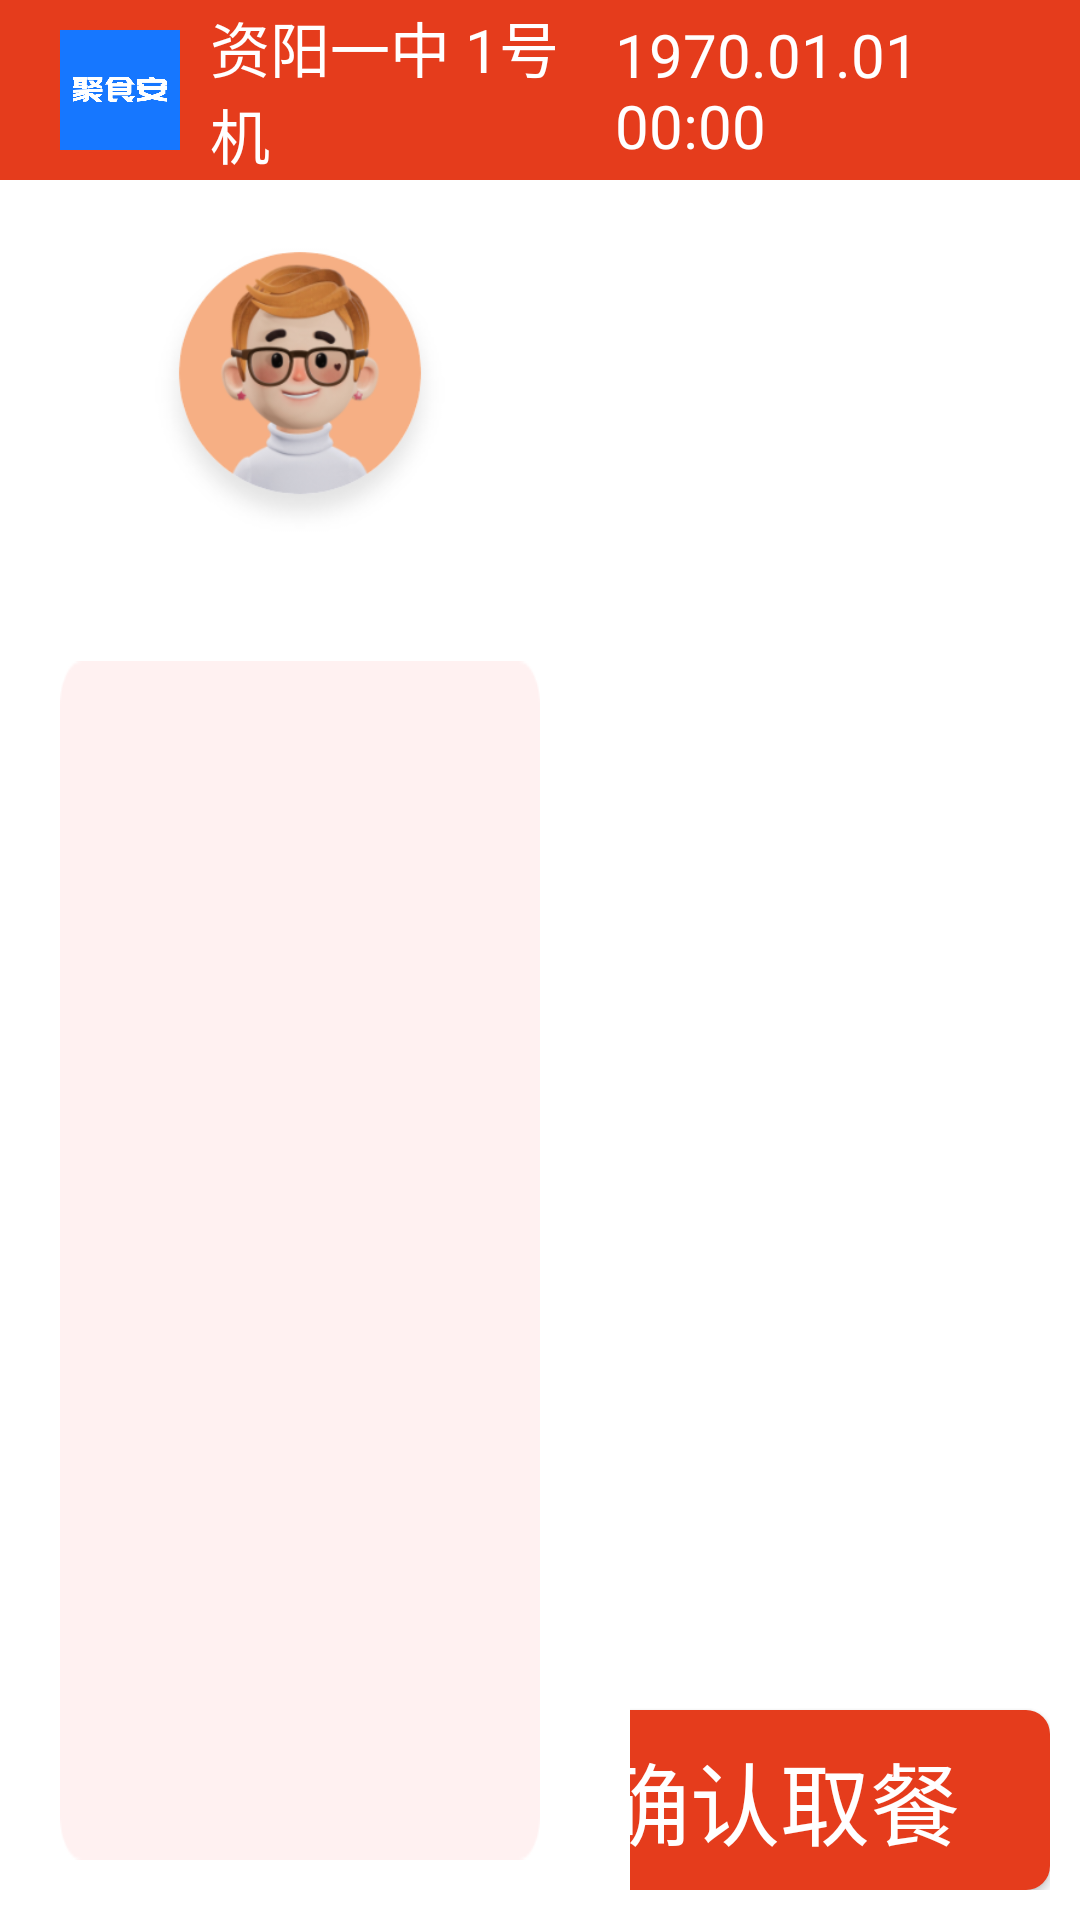

Named icons in this screenshot (1080 × 1920) and their centers, [x,y]:
head: [300,376]
